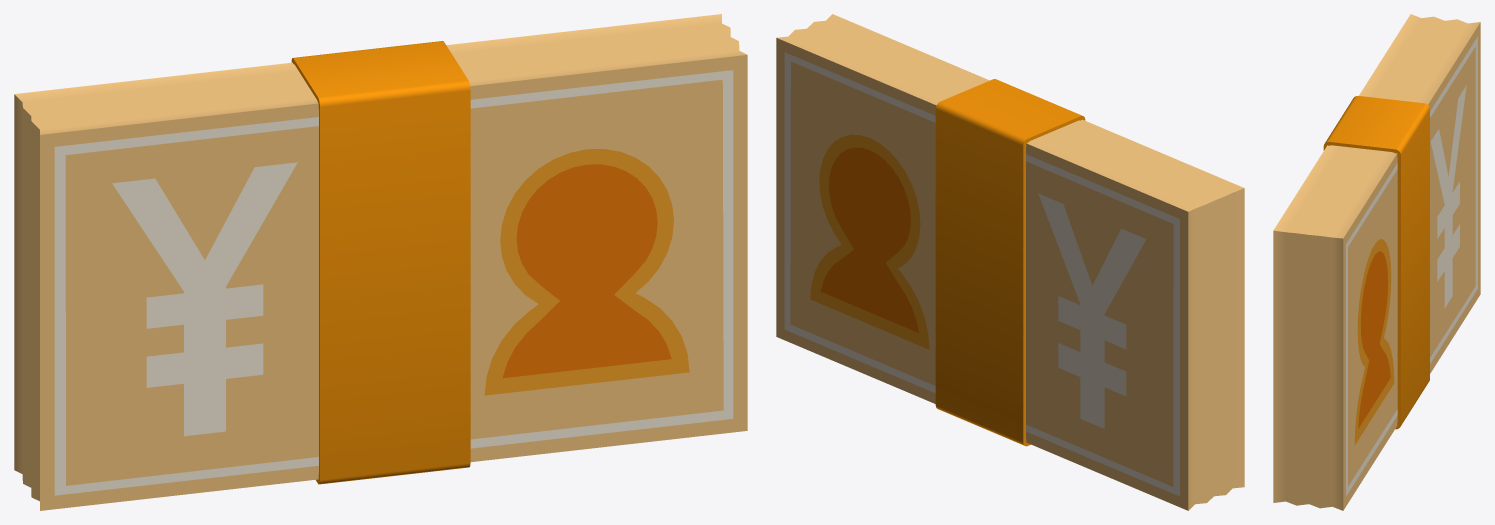
Rendered from yen_banknote.glb.
The picture shows the model from 3 angles, left to right: view 1: azimuth 30°, elevation 25°; view 2: azimuth 150°, elevation 25°; view 3: azimuth 270°, elevation 25°; orthographic projection. The views are drawn at different scales.
Parts seen in each view (by area): view 1: Cube.955; view 2: Cube.955; view 3: Cube.955.
Part boxes in pixels (x1=…): Cube.955: x1=14, y1=14, x2=747, y2=510; Cube.955: x1=776, y1=14, x2=1244, y2=510; Cube.955: x1=1273, y1=14, x2=1480, y2=510.
Size of the model in its own units: 2.2 by 1.28 by 0.8586.
1 material, 1 textured.
